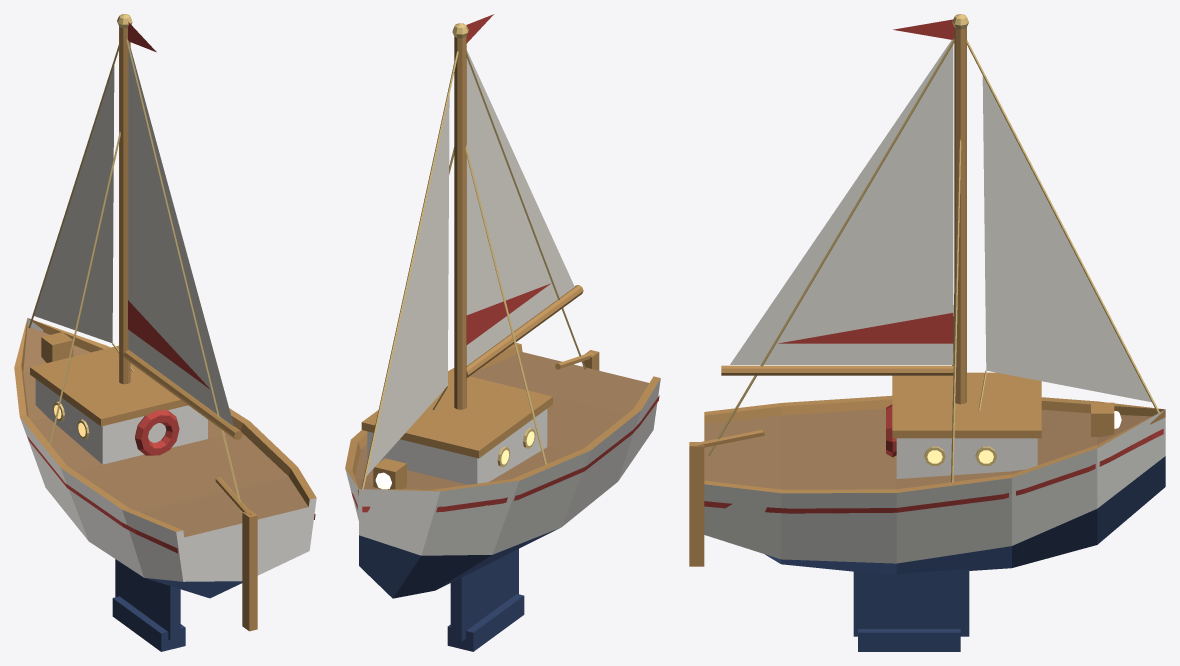
File: sloop.glb
3 renders of one model, left to right at view 1: azimuth 30°, elevation 25°; view 2: azimuth 150°, elevation 25°; view 3: azimuth 270°, elevation 25°, orthographic. The views are drawn at different scales.
Parts seen in each view (by area): view 1: Hull, Mainsail, Jib, CabinRoof, Cabin, Mast, Keel, Rudder, KeelBulb, Boom, LifeRing, SailStripe2 (+5 smaller); view 2: Hull, Mainsail, Jib, CabinRoof, Mast, Cabin, Keel, KeelBulb, Boom, SailStripe2, Forestay, BootStripe.001 (+3 smaller); view 3: Hull, Mainsail, Jib, CabinRoof, Keel, Cabin, Mast, SailStripe, Boom, KeelBulb, BootStripe, Rudder (+5 smaller).
Boxes of the visible parts, left/top/right/bottom form: Hull: left=14, top=318, right=316, bottom=598; Mainsail: left=128, top=40, right=234, bottom=426; Jib: left=34, top=65, right=114, bottom=343; CabinRoof: left=30, top=345, right=187, bottom=426; Cabin: left=35, top=379, right=207, bottom=464; Mast: left=119, top=26, right=130, bottom=384; Keel: left=115, top=559, right=180, bottom=640; Rudder: left=242, top=510, right=257, bottom=631; KeelBulb: left=112, top=596, right=185, bottom=651; Boom: left=123, top=350, right=242, bottom=439; LifeRing: left=135, top=410, right=179, bottom=455; SailStripe2: left=128, top=300, right=210, bottom=389; Hull: left=345, top=343, right=660, bottom=598; Mainsail: left=466, top=50, right=574, bottom=365; Jib: left=366, top=95, right=449, bottom=475; CabinRoof: left=361, top=371, right=552, bottom=458; Mast: left=454, top=36, right=466, bottom=409; Cabin: left=367, top=409, right=547, bottom=484; Keel: left=450, top=549, right=518, bottom=641; KeelBulb: left=447, top=594, right=524, bottom=651; Boom: left=466, top=285, right=583, bottom=377; SailStripe2: left=466, top=283, right=550, bottom=344; Forestay: left=361, top=51, right=458, bottom=489; BootStripe.001: left=362, top=395, right=659, bottom=512; Hull: left=704, top=395, right=1165, bottom=574; Mainsail: left=730, top=39, right=953, bottom=364; Jib: left=982, top=75, right=1151, bottom=402; CabinRoof: left=892, top=372, right=1041, bottom=438; Keel: left=853, top=569, right=969, bottom=636; Cabin: left=896, top=438, right=1037, bottom=478; Mast: left=954, top=27, right=966, bottom=404; SailStripe: left=778, top=313, right=953, bottom=343; Boom: left=721, top=365, right=953, bottom=375; KeelBulb: left=858, top=629, right=960, bottom=651; BootStripe: left=704, top=428, right=1163, bottom=513; Rudder: left=689, top=442, right=704, bottom=566.
Bounding box in the file's own units: 0.4428 × 1.34 × 0.9143.
